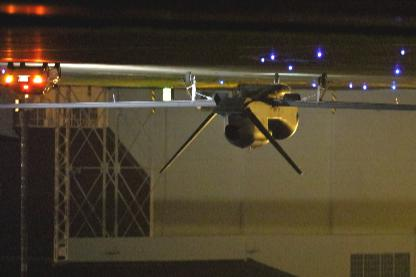P3: (0, 71, 415, 175)
